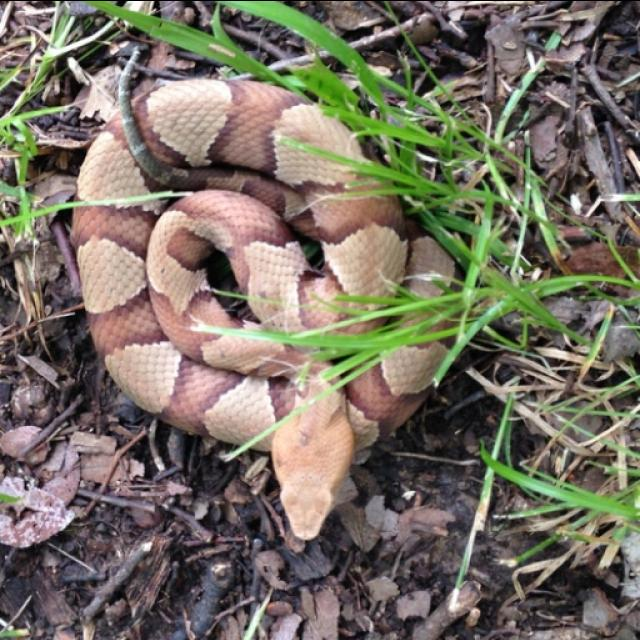snake: (49, 71, 478, 545)
